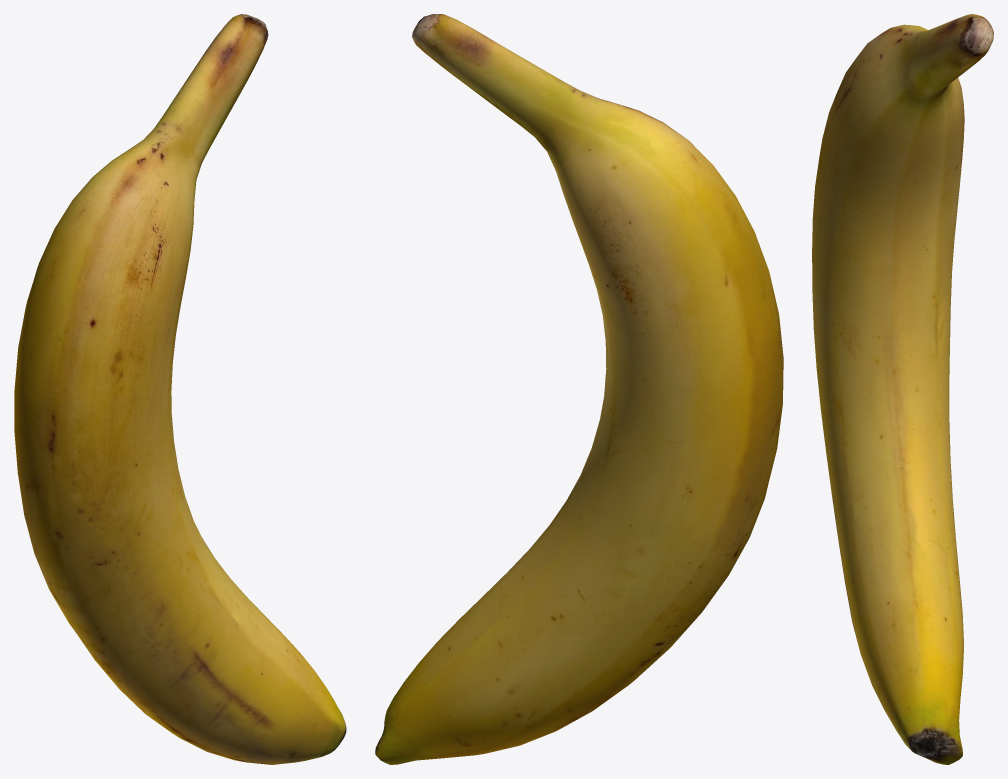
3 renders of one model, left to right at view 1: azimuth 30°, elevation 25°; view 2: azimuth 150°, elevation 25°; view 3: azimuth 270°, elevation 25°, orthographic. The views are drawn at different scales.
Parts seen in each view (by area): view 1: banan; view 2: banan; view 3: banan.
Boxes of the visible parts, x1,y1,x2,y2 form: banan: [14, 14, 346, 764]; banan: [375, 14, 783, 764]; banan: [812, 14, 993, 764].
Size of the model in its own units: 0.0922 by 0.0434 by 0.1897.
Materials: 1 (1 with a texture image).
